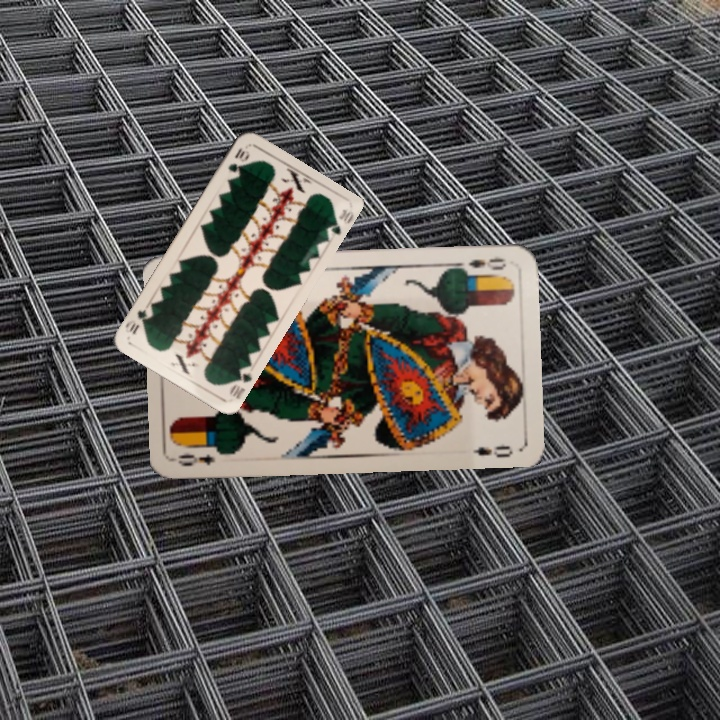EO: (455, 254, 508, 277), (174, 450, 218, 469)
G10: (225, 363, 255, 402), (224, 143, 251, 175)
